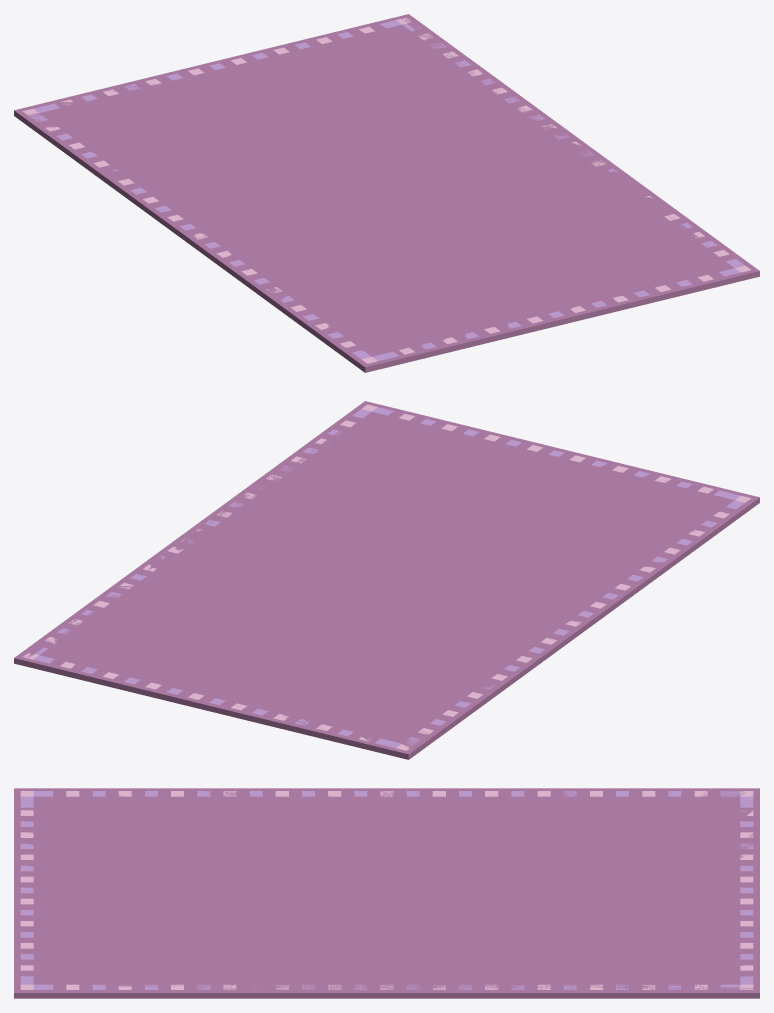
The model's file is Teppich02LargerPink.fbx.
3 renders of one model, top to bottom at view 1: azimuth 30°, elevation 25°; view 2: azimuth 150°, elevation 25°; view 3: azimuth 270°, elevation 25°, orthographic. The views are drawn at different scales.
Parts seen in each view (by area): view 1: Teppich02LargerPink; view 2: Teppich02LargerPink; view 3: Teppich02LargerPink.
Part boxes in pixels (bbox=[...]): Teppich02LargerPink: bbox=[14, 14, 759, 372]; Teppich02LargerPink: bbox=[14, 401, 759, 759]; Teppich02LargerPink: bbox=[14, 788, 759, 998].
Size of the model in its own units: 462 by 6.25 by 712.
